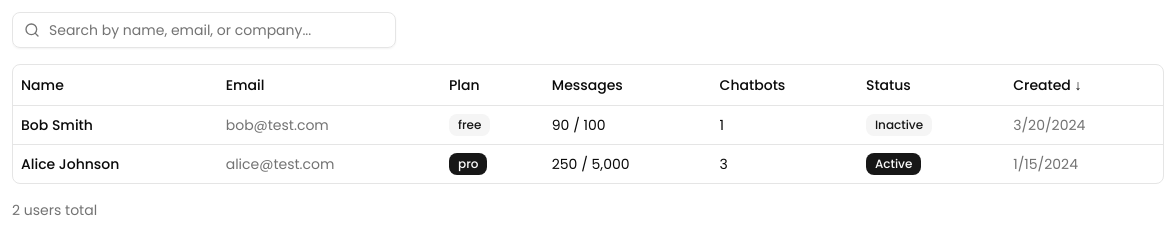
Test: UserTable › search filters users by name
This screenshot has width=1164, height=233.
Type "Alice" into the field with placeholder "Search by name, email, or company..." at (204, 30), box top-left (12, 12), bottom-right (396, 48)
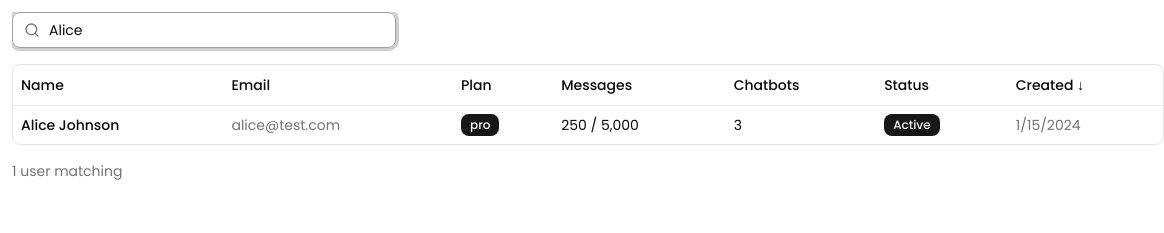
expect the link "Alice Johnson" is shown: met, box top-left (21, 114), bottom-right (119, 134)
expect the link "Bob Smith" is gone: met
